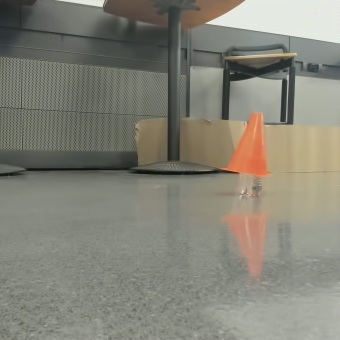Cone: (238, 108, 275, 170)
